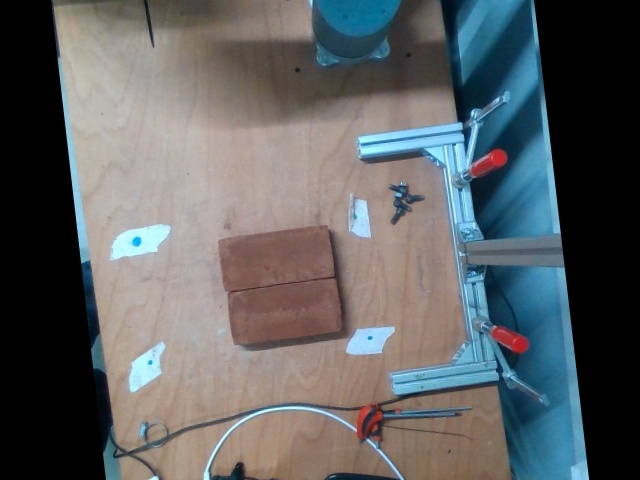brick: (217, 223, 332, 291), (225, 276, 340, 344)
